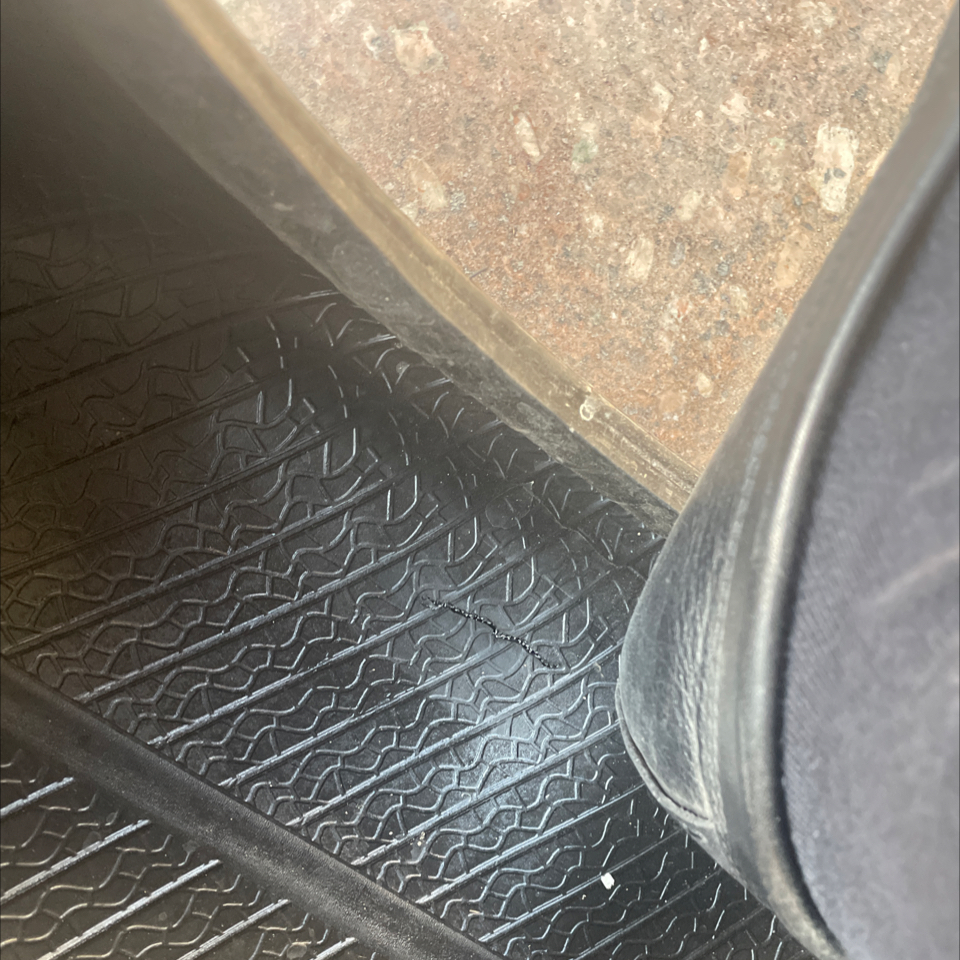cut: (423, 593, 562, 675)
